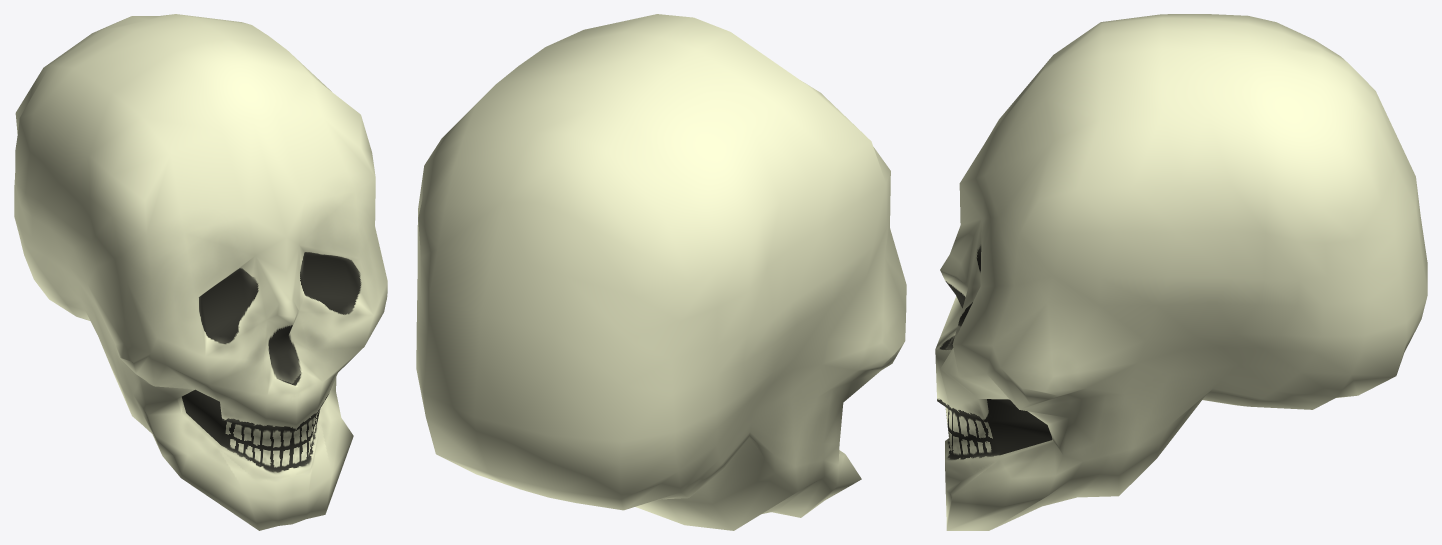
The model's file is Skull.fbx.
3 views of the same model, side by side, from view 1: azimuth 30°, elevation 25°; view 2: azimuth 150°, elevation 25°; view 3: azimuth 270°, elevation 25° (orthographic). The views are drawn at different scales.
Parts seen in each view (by area): view 1: skull; view 2: skull; view 3: skull.
Part boxes in pixels (x1=…): skull: x1=14, y1=14, x2=387, y2=530; skull: x1=416, y1=14, x2=906, y2=530; skull: x1=935, y1=14, x2=1427, y2=530.
Size of the model in its own units: 0.1667 by 0.2431 by 0.2245.
